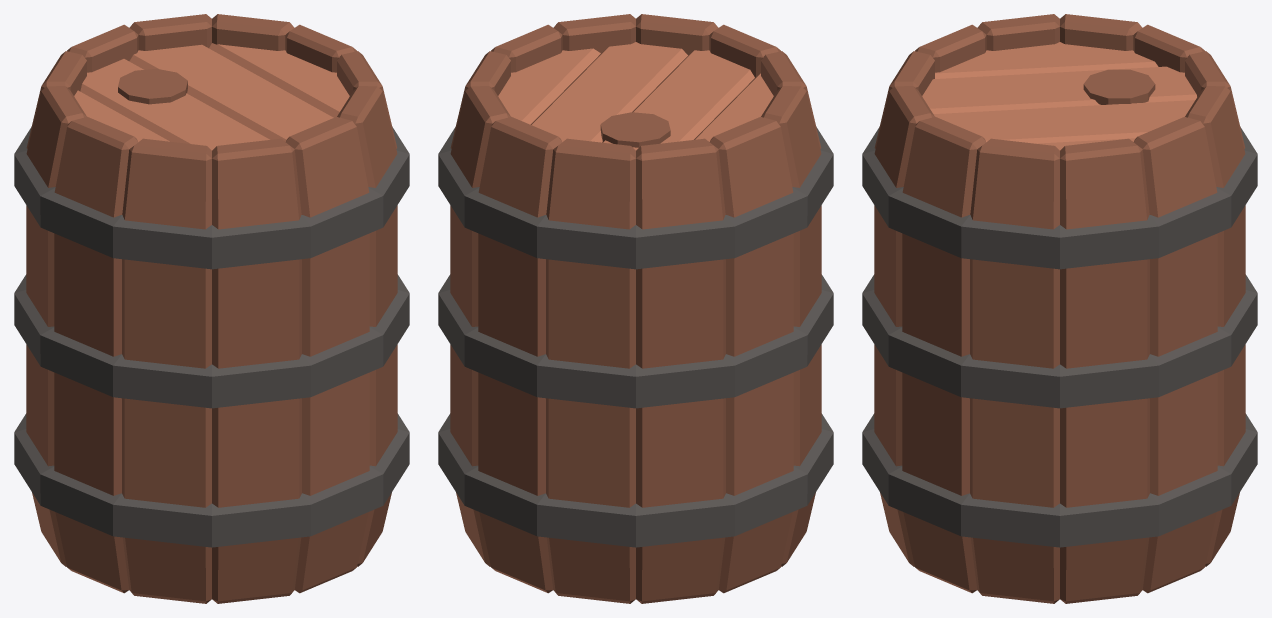
Rendered from Barrel.fbx.
The picture shows the model from 3 angles, left to right: view 1: azimuth 30°, elevation 25°; view 2: azimuth 150°, elevation 25°; view 3: azimuth 270°, elevation 25°; orthographic projection.
Parts seen in each view (by area): view 1: Barrel; view 2: Barrel; view 3: Barrel.
Boxes of the visible parts, x1,y1,x2,y2 form: Barrel: (14, 14, 409, 603); Barrel: (438, 14, 833, 603); Barrel: (862, 14, 1257, 603).
Bounding box in the file's own units: 85.3 × 107 × 85.19.
